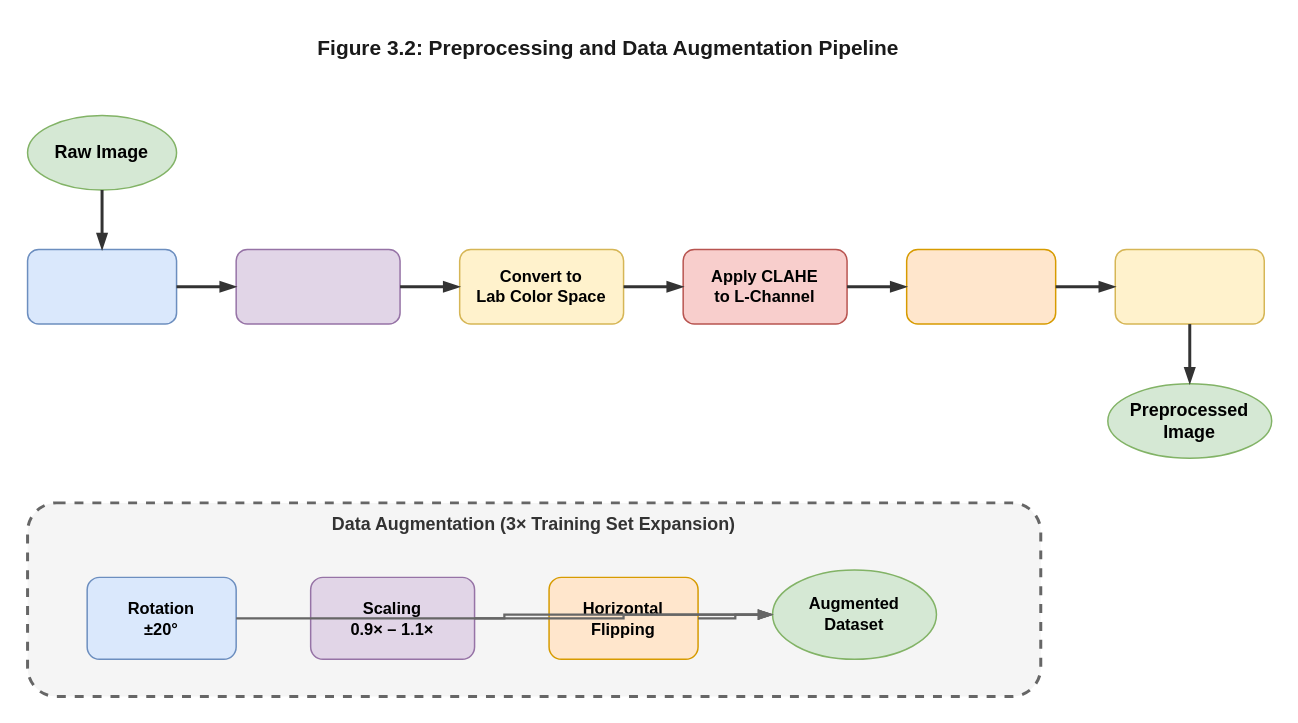
The diagram is 1298 pixels wide and 723 high, and some of its shapes have lost their labels. Each missing label, with the box of its shape:
3×3 Median Filtering: (905, 248, 1056, 324)
Convert back to RGB: (1114, 248, 1264, 324)
Gray World White Balance: (235, 248, 400, 324)
Resize to 512 × 512: (26, 248, 177, 324)
